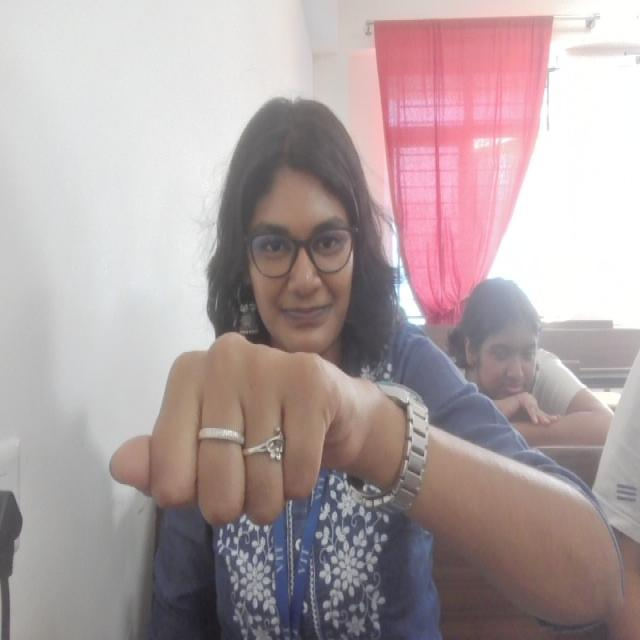yes: (104, 328, 363, 536)
